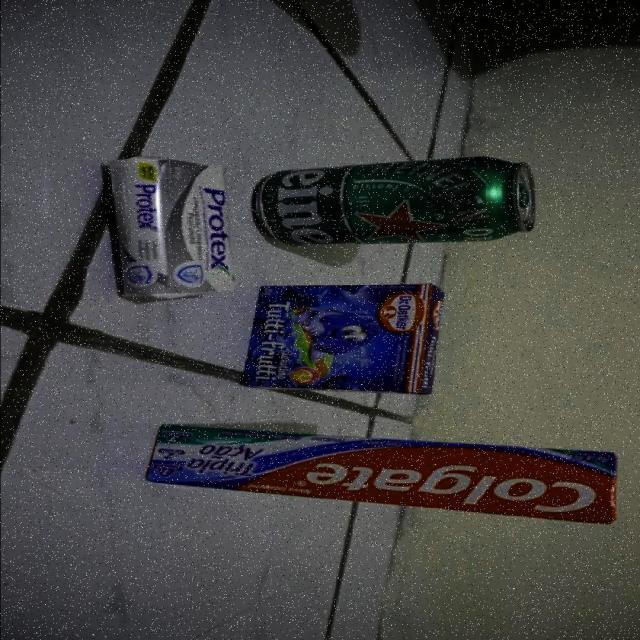BeerCan: (261, 157, 540, 248)
Gelatine: (242, 282, 449, 394)
Soap: (105, 157, 236, 303)
Toothpaste: (144, 424, 632, 524)
